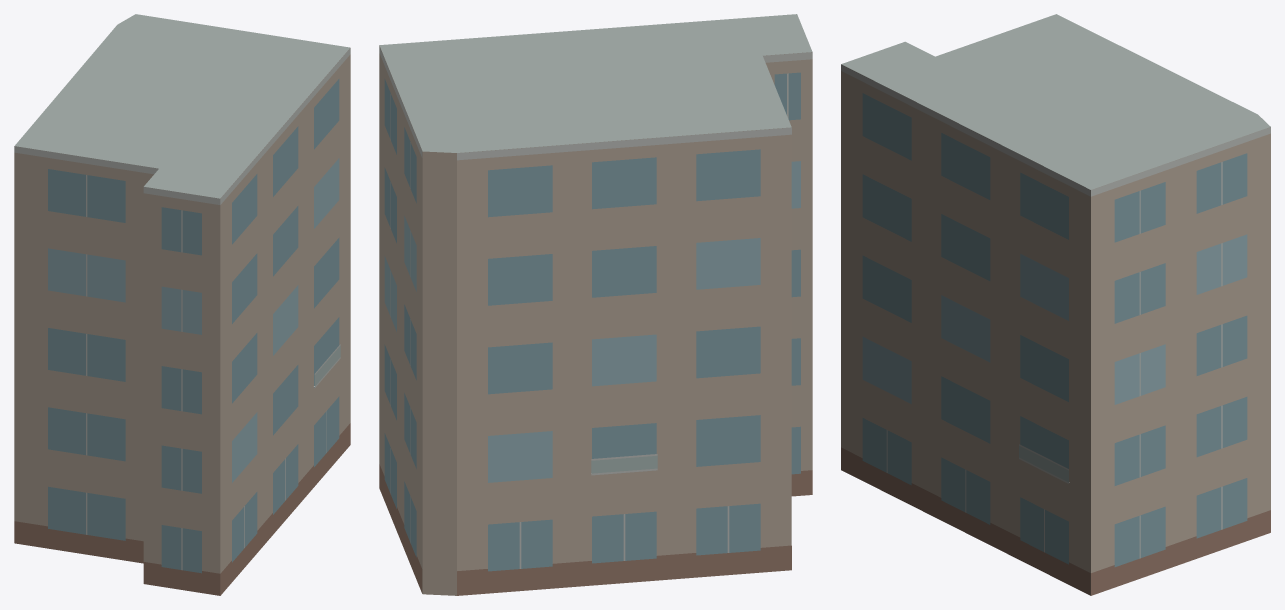
File: survey-upis-32967817.glb
The picture shows the model from 3 angles, left to right: view 1: azimuth 30°, elevation 25°; view 2: azimuth 150°, elevation 25°; view 3: azimuth 270°, elevation 25°; orthographic projection. The views are drawn at different scales.
Visible parts, largest first — view 1: survey-upis-32967817.tmp; view 2: survey-upis-32967817.tmp; view 3: survey-upis-32967817.tmp.
Boxes of the visible parts, x1=… form: survey-upis-32967817.tmp: x1=14, y1=14, x2=350, y2=595; survey-upis-32967817.tmp: x1=379, y1=14, x2=812, y2=595; survey-upis-32967817.tmp: x1=841, y1=14, x2=1270, y2=595.
Bounding box in the file's own units: 13.77 × 14.8 × 14.21.
